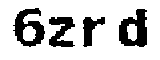6: (11, 5, 47, 48)
d: (117, 3, 152, 52)
r: (80, 14, 110, 49)
z: (47, 16, 77, 52)
